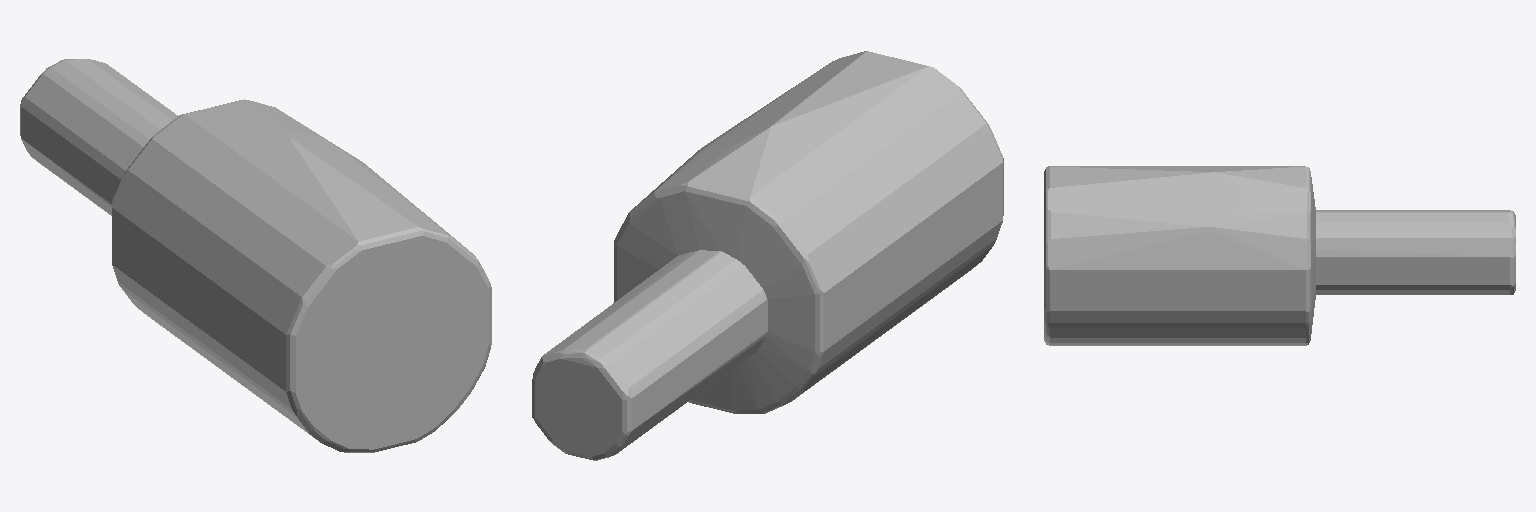
robot.urdf — root:
<?xml version="1.0"?>
<robot name="root">
  <link name="base_link">
    <visual>
      <origin xyz="0 0 0" rpy="0 0 0" />
      <geometry>
        <mesh filename="../meshes/unidex_core_bottle-d4a8a5243b976630e3eacec6011567b3_015.obj" scale="1.0000E+00 1.0000E+00 1.0000E+00" />
      </geometry>
      <material name="">
        <color rgba="7.50E-01 7.50E-01 7.50E-01 1" />
      </material>
    </visual>
    <collision>
      <origin xyz="0 0 0" rpy="0 0 0" />
      <geometry>
        <mesh filename="../meshes/unidex_core_bottle-d4a8a5243b976630e3eacec6011567b3_015.obj" scale="1.0000E+00 1.0000E+00 1.0000E+00" />
      </geometry>
    </collision>
  </link>
</robot>

--- Render facts (derived) ---
3 views of the same robot in one strip: view 1: azimuth 30°, elevation 25°; view 2: azimuth 150°, elevation 25°; view 3: azimuth 270°, elevation 25° (orthographic).
Robot: root — 1 links, 0 joints (none); root link base_link; default pose: all joints at 0.
Visible links, largest first — view 1: base_link; view 2: base_link; view 3: base_link.
Link boxes in pixels (x1,y1,x2,y2): base_link: (20,59,491,452); base_link: (532,51,1003,460); base_link: (1044,166,1515,345).
Bounding box of the posed robot: 0.1014 × 0.2744 × 0.1074 m (x, y, z).
1 mesh visuals loaded from 1 distinct referenced files (1 OBJ).
